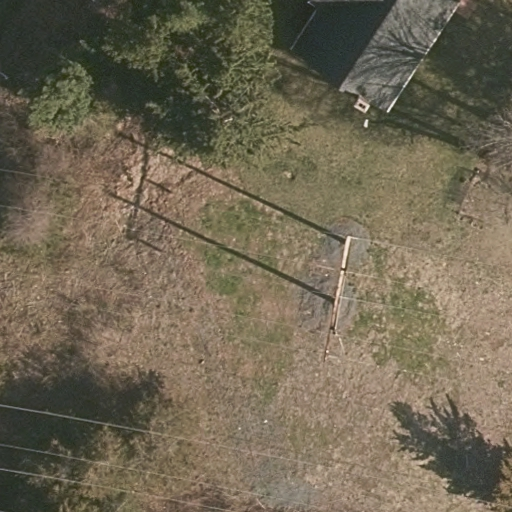DT: (313, 230, 363, 368)
